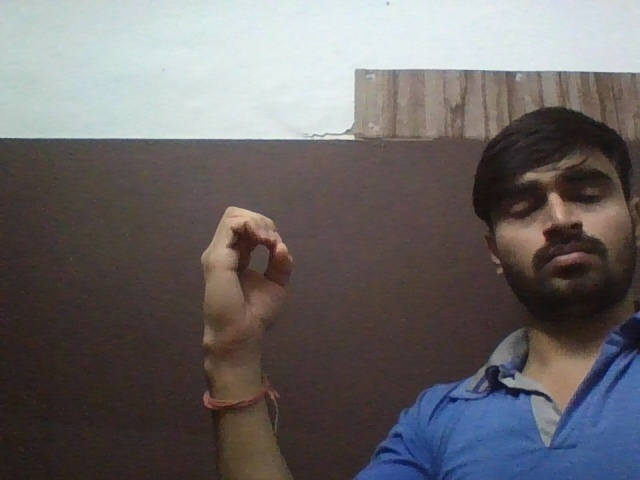O: (192, 202, 291, 359)
